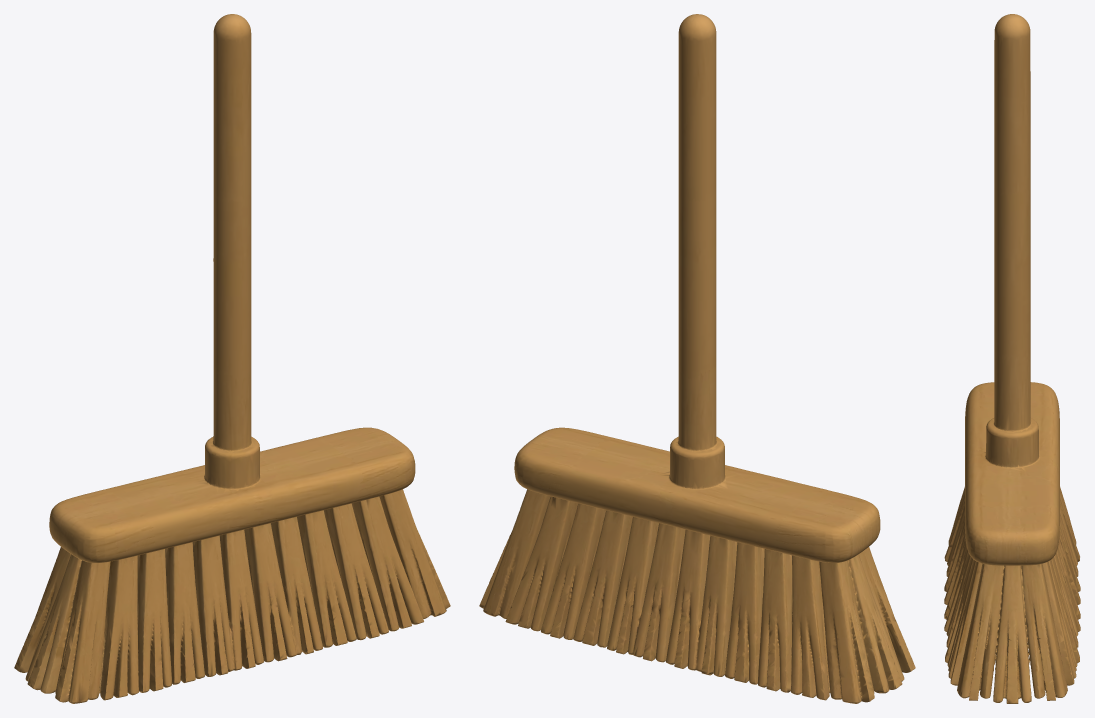
The model's file is push-broom.glb.
3 renders of one model, left to right at view 1: azimuth 30°, elevation 25°; view 2: azimuth 150°, elevation 25°; view 3: azimuth 270°, elevation 25°, orthographic. The views are drawn at different scales.
Size of the model in its own units: 1.29 by 1.9 by 0.3944.
Materials: 1 (1 with a texture image).
